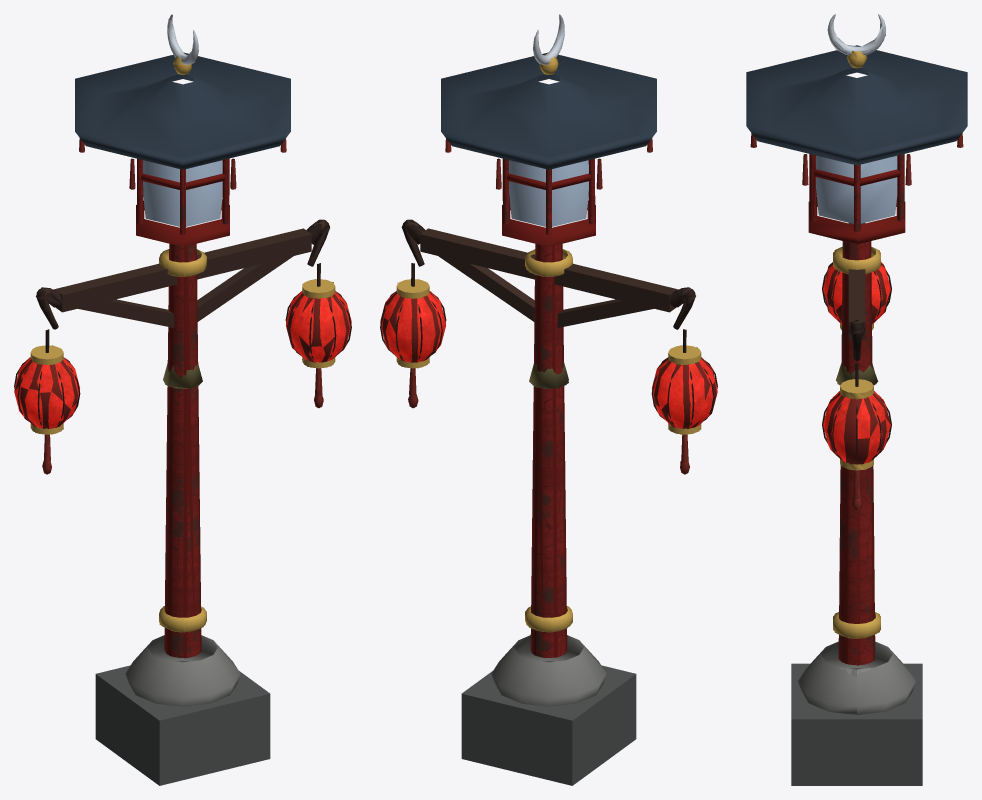
File: prop_moon_lantern_post.gltf
3 views of the same model, side by side, from view 1: azimuth 30°, elevation 25°; view 2: azimuth 150°, elevation 25°; view 3: azimuth 270°, elevation 25° (orthographic). The views are drawn at different scales.
Visible parts, largest first — view 1: Far, Near; view 2: Far, Near; view 3: Far, Near.
Part boxes in pixels (x1,y1,x2,y2): Far: [14, 14, 349, 785]; Near: [14, 14, 351, 657]; Far: [380, 14, 716, 785]; Near: [380, 14, 717, 657]; Far: [746, 14, 967, 785]; Near: [750, 14, 963, 677].
Size of the model in its own units: 2.39 by 5.01 by 1.35.
Materials: 12 (8 with a texture image).
